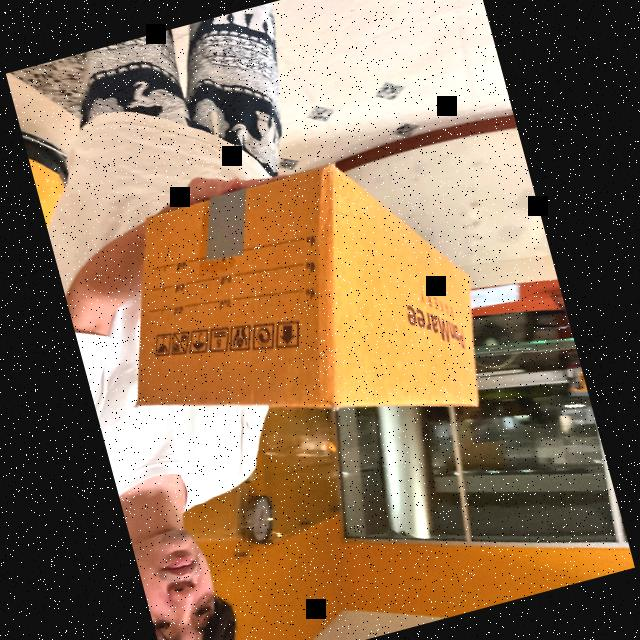cardboard_box: (135, 157, 475, 420)
